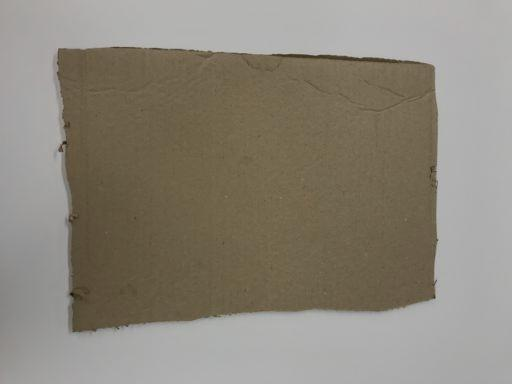cardboard: (51, 42, 437, 335)
